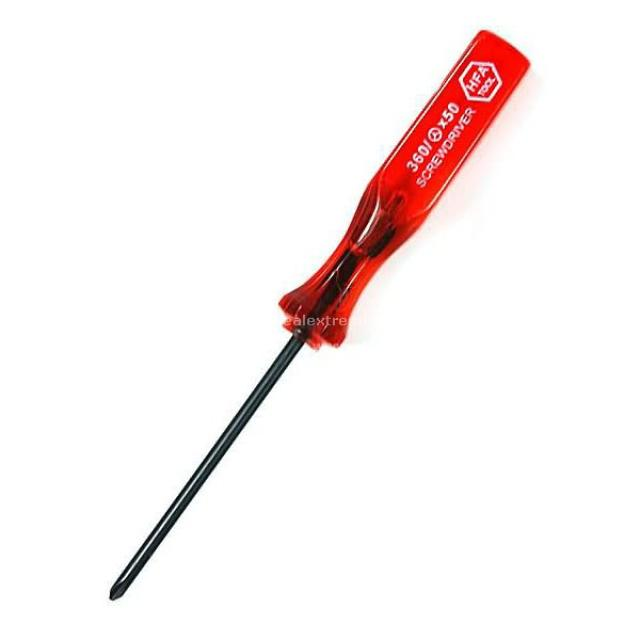screw_driver: (111, 29, 537, 602)
